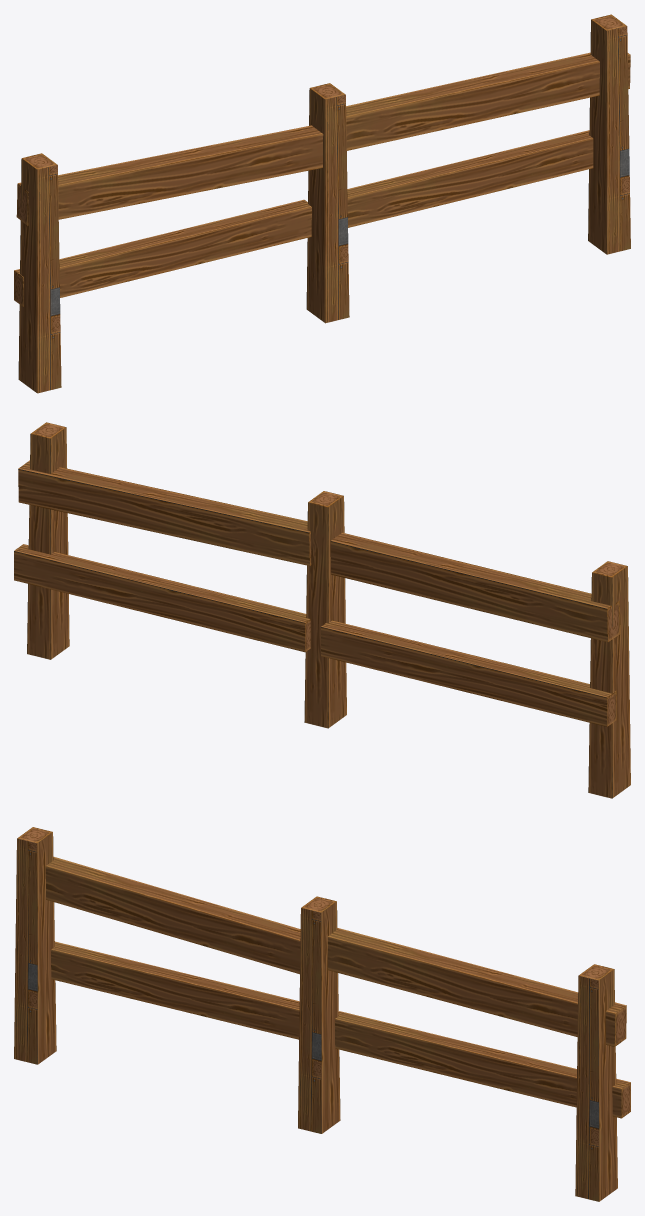
3 views of the same model, one above another, from view 1: azimuth 30°, elevation 25°; view 2: azimuth 150°, elevation 25°; view 3: azimuth 330°, elevation 25° (orthographic).
Parts seen in each view (by area): view 1: Cube.1633; view 2: Cube.1633; view 3: Cube.1633.
Boxes of the visible parts, left/top/right/bottom form: Cube.1633: left=14, top=14, right=630, bottom=393; Cube.1633: left=14, top=422, right=630, bottom=798; Cube.1633: left=14, top=827, right=630, bottom=1201.
Size of the model in its own units: 429 by 152 by 30.61.
1 material, 1 textured.
